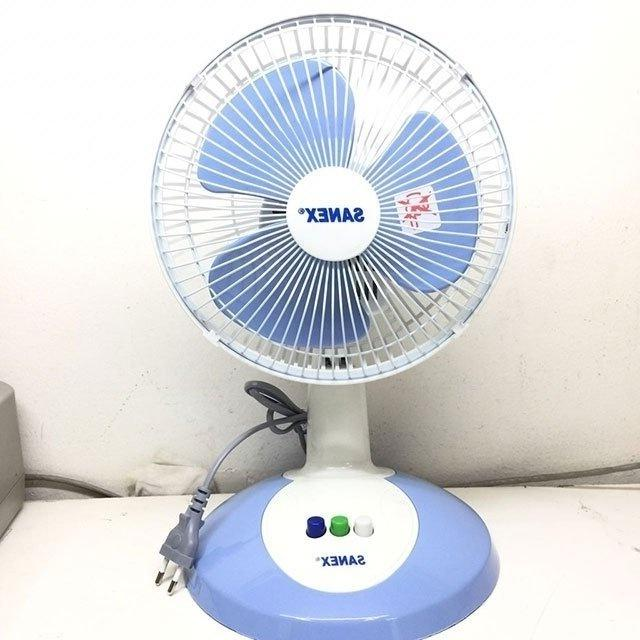fan: (126, 29, 521, 640)
